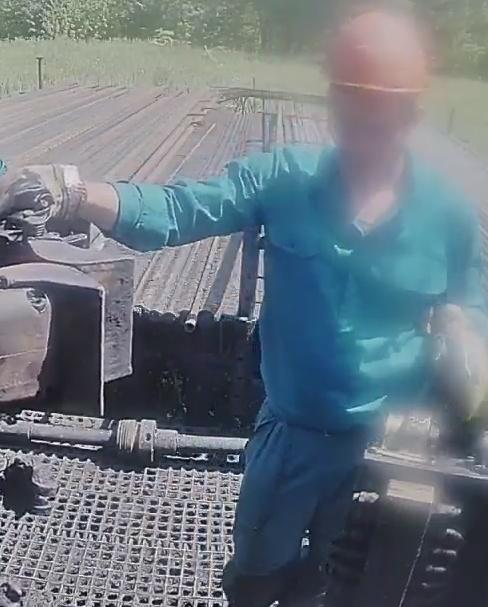gloves: (0, 161, 108, 231), (427, 302, 488, 416)
helmet: (324, 3, 434, 100)
vest: (245, 144, 471, 456)
